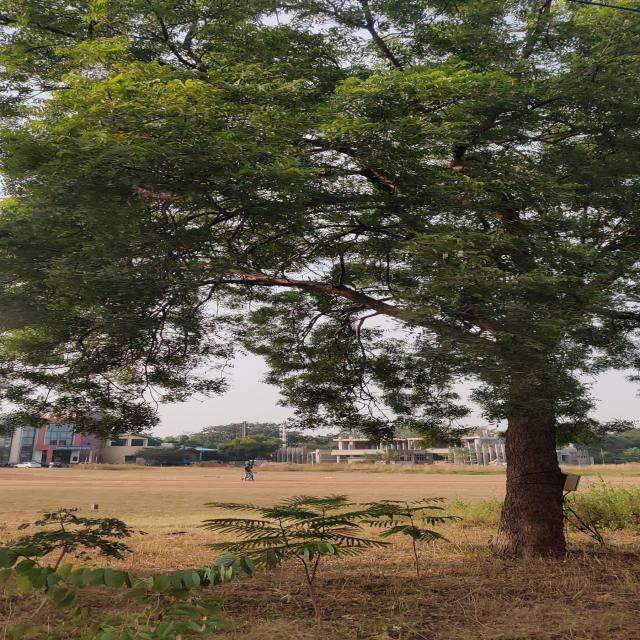Neem Tree: (11, 1, 617, 381)
